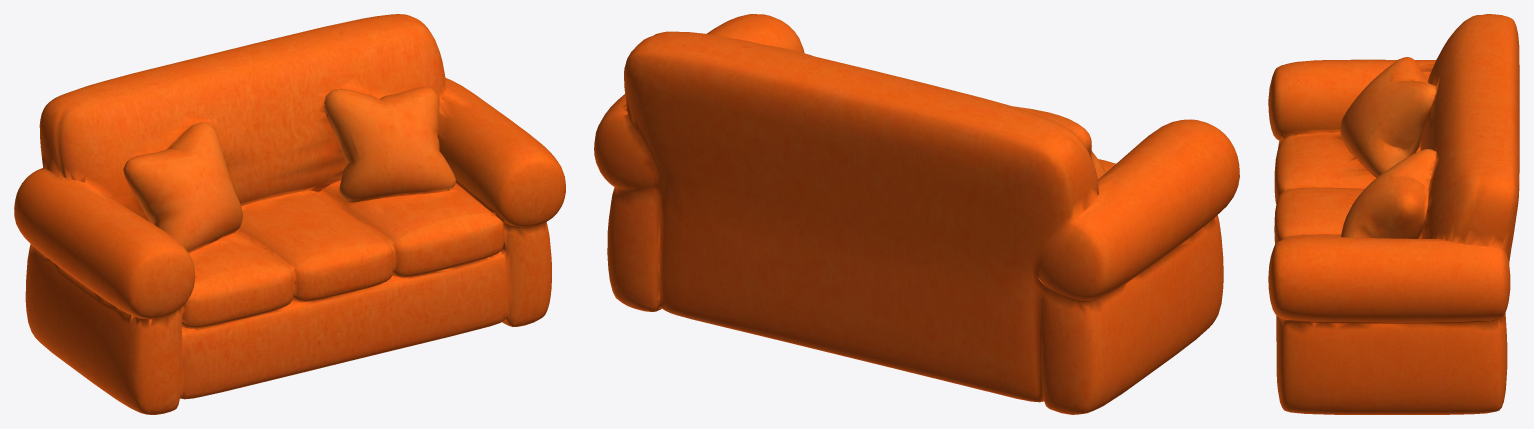
File: sofa.glb
The picture shows the model from 3 angles, left to right: view 1: azimuth 30°, elevation 25°; view 2: azimuth 150°, elevation 25°; view 3: azimuth 270°, elevation 25°; orthographic projection. The views are drawn at different scales.
Visible parts, largest first — view 1: sofa; view 2: sofa; view 3: sofa.
Boxes of the visible parts, box(x1,y1,x2,y2) form: sofa: box(14, 14, 565, 414); sofa: box(594, 14, 1239, 414); sofa: box(1268, 14, 1519, 414).
Bounding box in the file's own units: 1.95 × 1 × 0.9726.
Materials: 1 (1 with a texture image).
